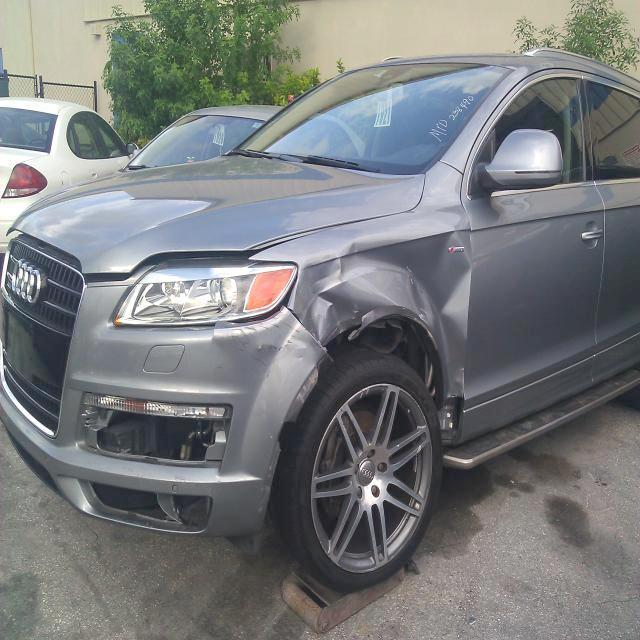minor: (255, 318, 295, 360)
moderate: (287, 206, 470, 400)
